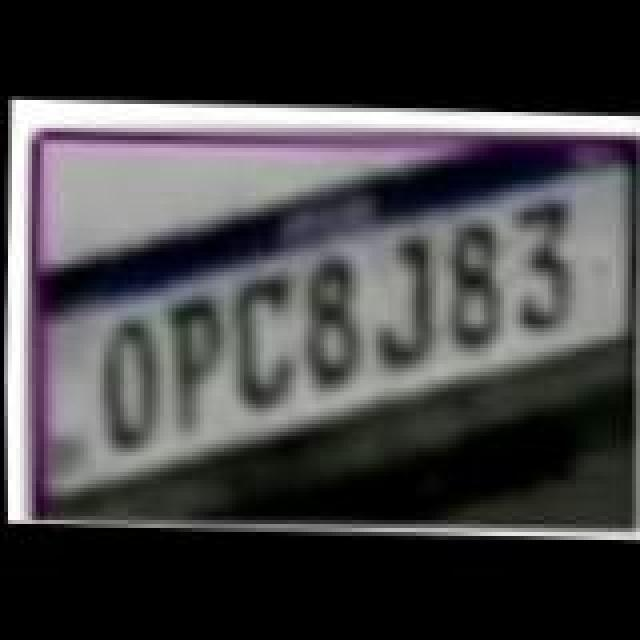3: (510, 194, 582, 334)
8: (292, 258, 372, 394), (438, 224, 510, 360)
C: (222, 272, 306, 416)
J: (362, 234, 446, 374)
O: (88, 314, 172, 458)
P: (158, 294, 238, 438)
